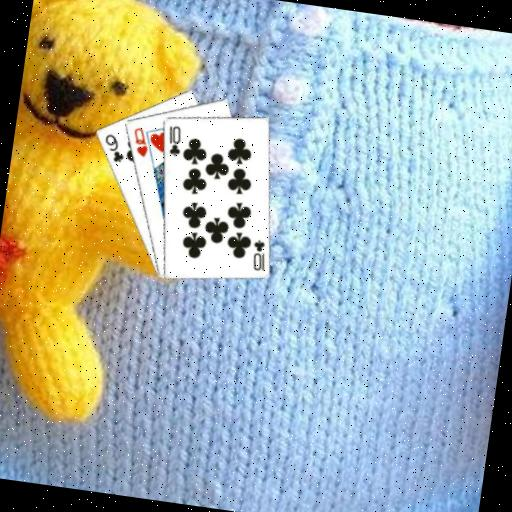10C: (247, 236, 270, 273), (162, 122, 185, 158)
9C: (99, 130, 129, 165)
QH: (128, 124, 153, 159)
